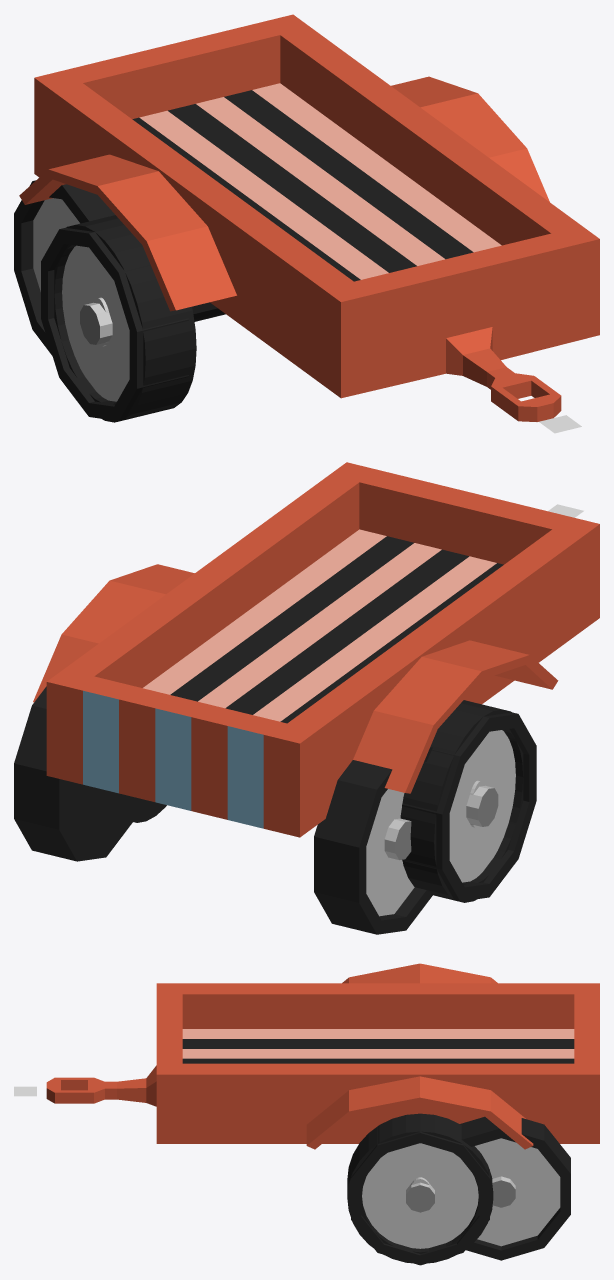
File: small-wagon.glb
The picture shows the model from 3 angles, top to bottom: view 1: azimuth 30°, elevation 25°; view 2: azimuth 150°, elevation 25°; view 3: azimuth 270°, elevation 25°; orthographic projection. The views are drawn at different scales.
Visible parts, largest first — view 1: wagon, old-aggsis, axis, right-tire; view 2: wagon, right-tire, old-aggsis, left-tire, axis; view 3: wagon, old-aggsis, left-tire, axis.
Boxes of the visible parts, x1,y1,x2,y2 form: wagon: (19, 14, 599, 421); old-aggsis: (41, 228, 222, 421); axis: (54, 215, 225, 422); right-tire: (14, 180, 114, 355); wagon: (33, 462, 599, 837); right-tire: (314, 747, 432, 934); old-aggsis: (402, 712, 536, 901); left-tire: (14, 686, 141, 861); axis: (133, 700, 523, 902); wagon: (46, 963, 599, 1149); old-aggsis: (351, 1127, 489, 1265); left-tire: (460, 1116, 570, 1260); axis: (347, 1113, 493, 1263).
Size of the model in its own units: 4.26 by 2.38 by 7.56.
1 material, 1 textured.
